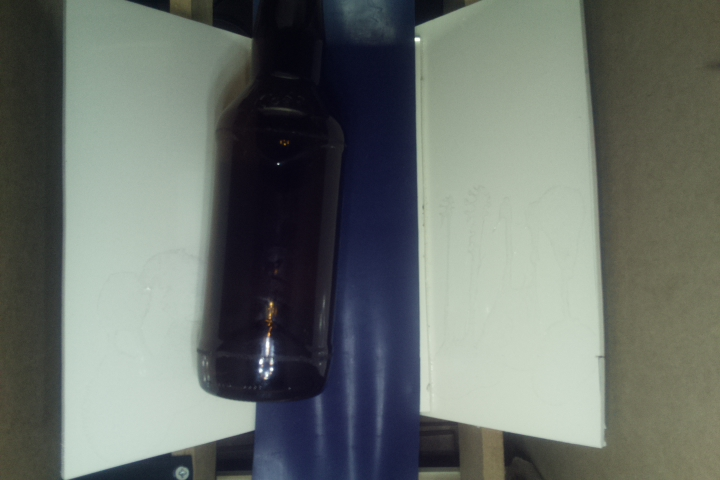makju: (198, 1, 349, 405)
